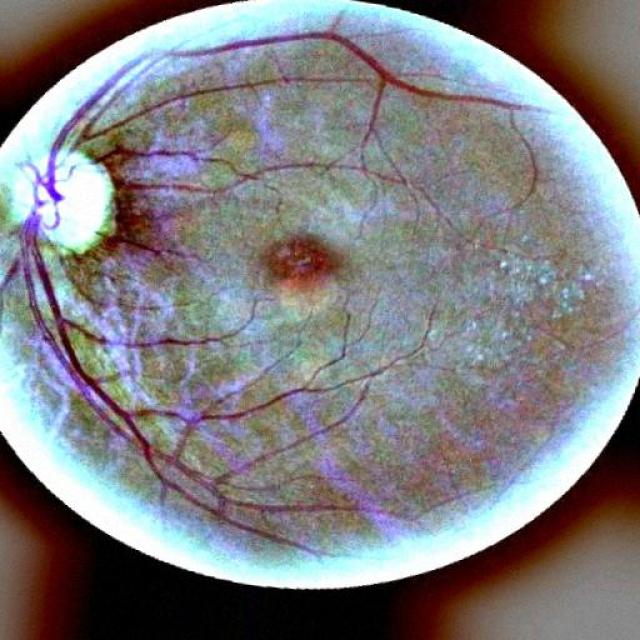Macula: (265, 228, 347, 293)
Nerves: (19, 213, 244, 519), (47, 34, 422, 184)
Optic Disk: (27, 151, 116, 264)
